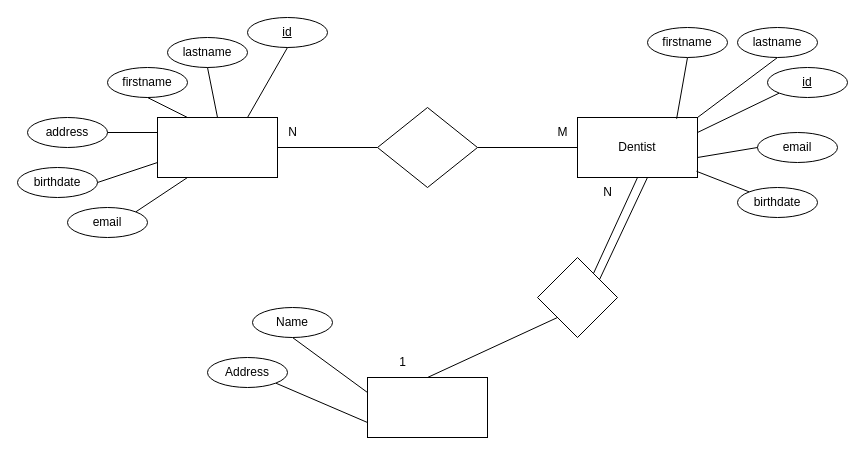
The diagram is 865 pixels wide and 455 high, and some of its shapes have lost their labels. The shapes that lost their labels are listed below. From the top down, each one's box as (x1, y1, x2, y2) in pixels, then its label:
(156, 116, 278, 178): Patient
(376, 106, 478, 188): Schedule appointment
(536, 256, 618, 338): Works for
(366, 376, 488, 438): Clinic
